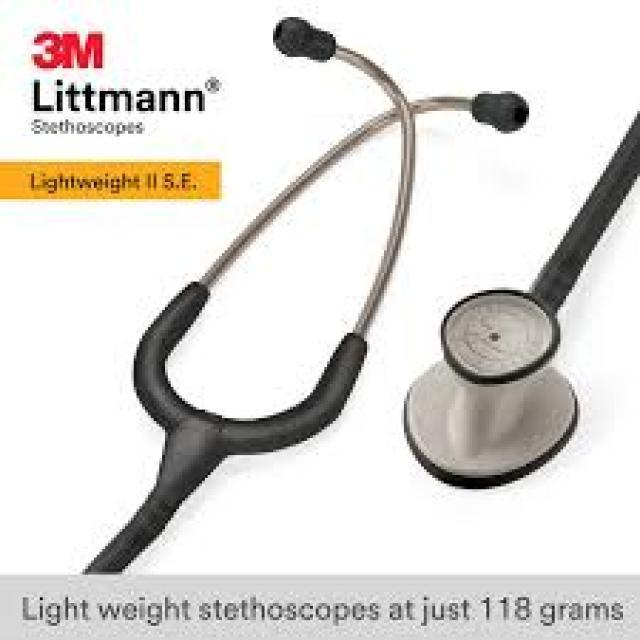stethoscope: (187, 13, 588, 538)
